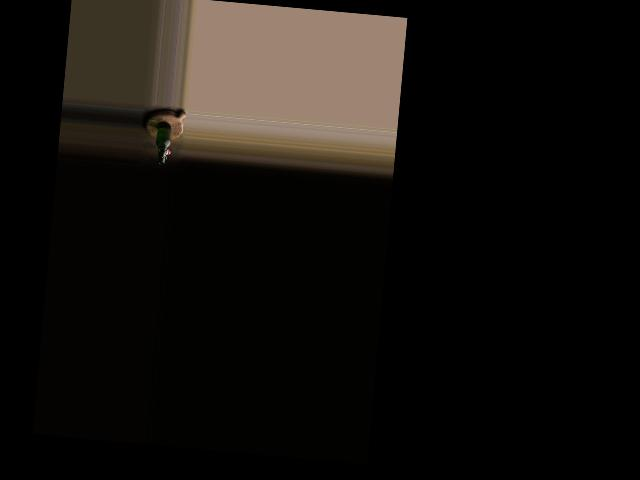beer: (154, 122, 172, 165)
